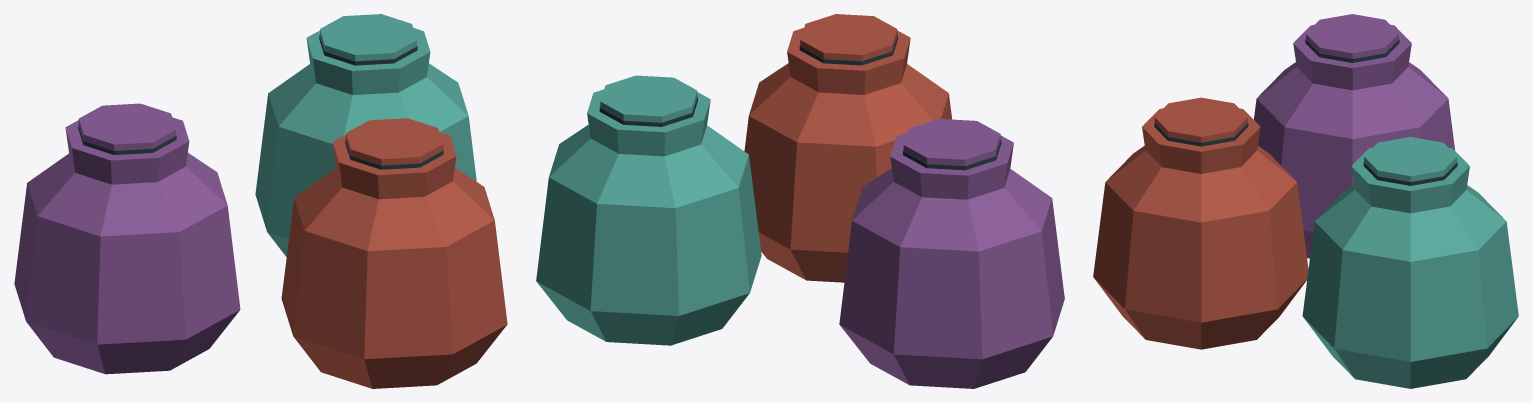
Rendered from res_dyes.glb.
3 renders of one model, left to right at view 1: azimuth 30°, elevation 25°; view 2: azimuth 150°, elevation 25°; view 3: azimuth 270°, elevation 25°, orthographic. The views are drawn at different scales.
Parts seen in each view (by area): view 1: res_dyes; view 2: res_dyes; view 3: res_dyes.
Part boxes in pixels (bbox=[...]): res_dyes: bbox=[14, 14, 507, 388]; res_dyes: bbox=[536, 14, 1064, 388]; res_dyes: bbox=[1093, 14, 1518, 388].
Size of the model in its own units: 0.218 by 0.0945 by 0.183.
